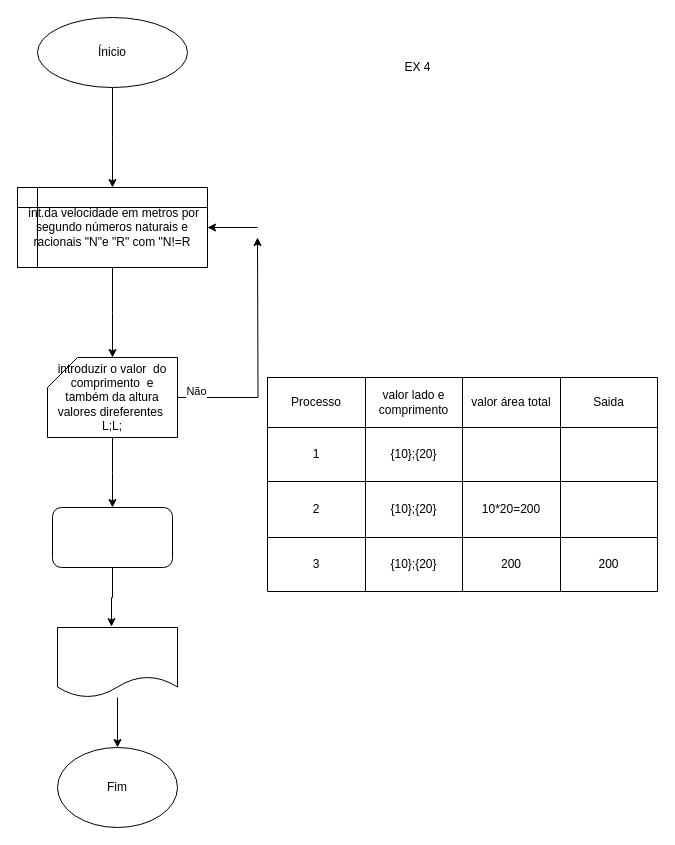
Image size: 675x845. Some labels were removed from this diagram. Here are the shapes that lost their labels. From the top down, the box of each, then its label:
(52, 506, 172, 568): Converter o valor da área L*L
(56, 626, 178, 698): Mostrar o valor em área total
